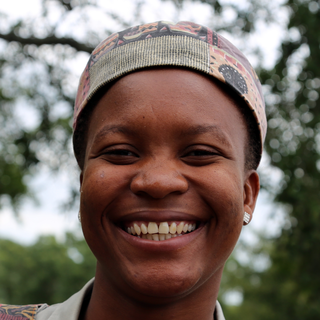eye: (97, 144, 142, 164), (179, 141, 221, 162)
